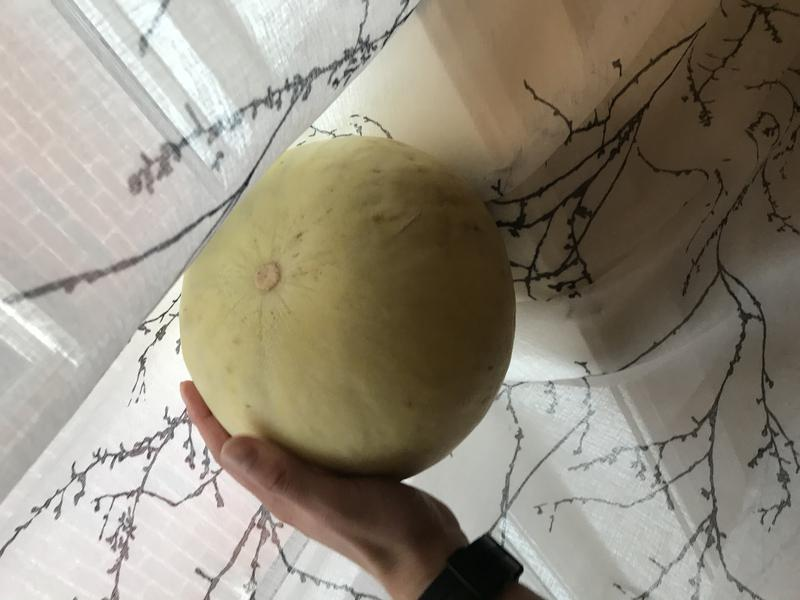honeydew: (169, 120, 529, 478)
